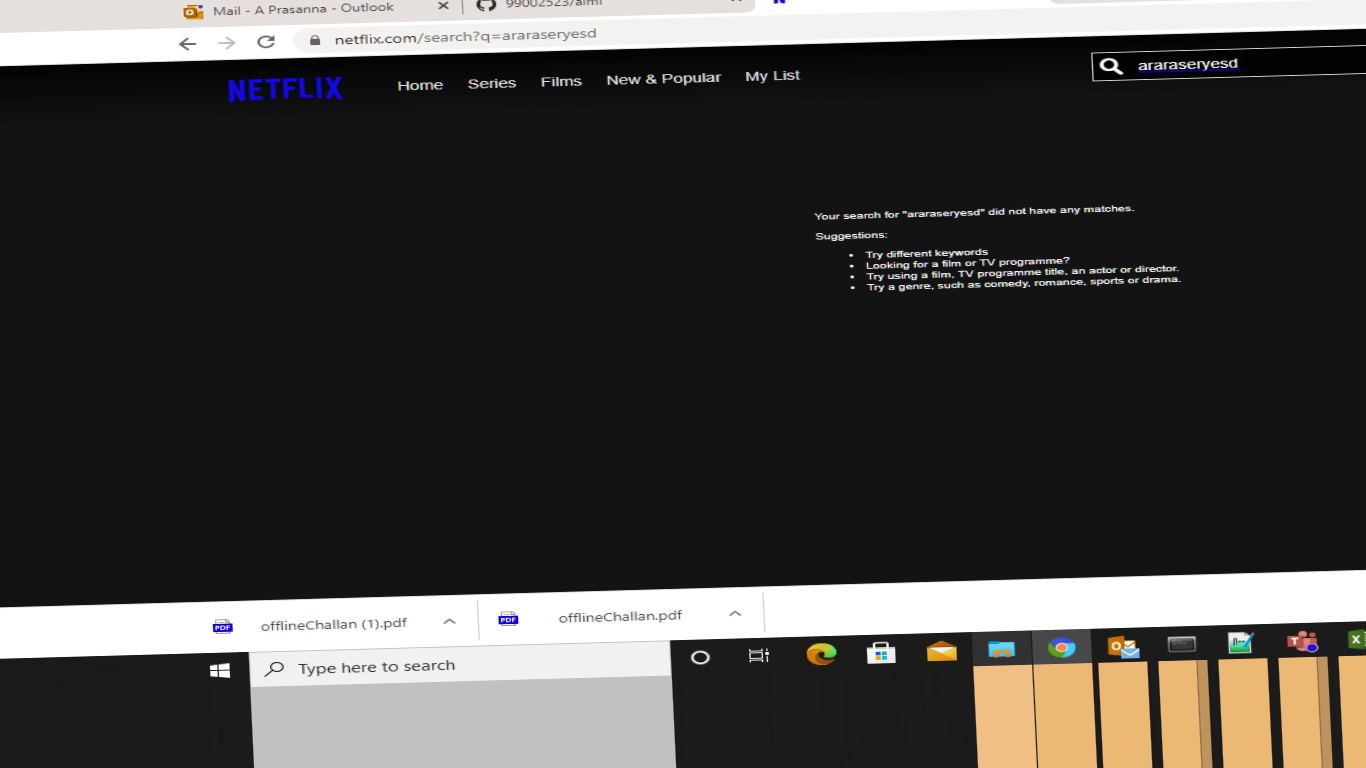mywatchlistbutton: (727, 56, 861, 115)
noresultsfound: (792, 192, 1201, 331)
searchicon: (1097, 51, 1133, 82)
searchtextbox: (1077, 34, 1366, 88)
